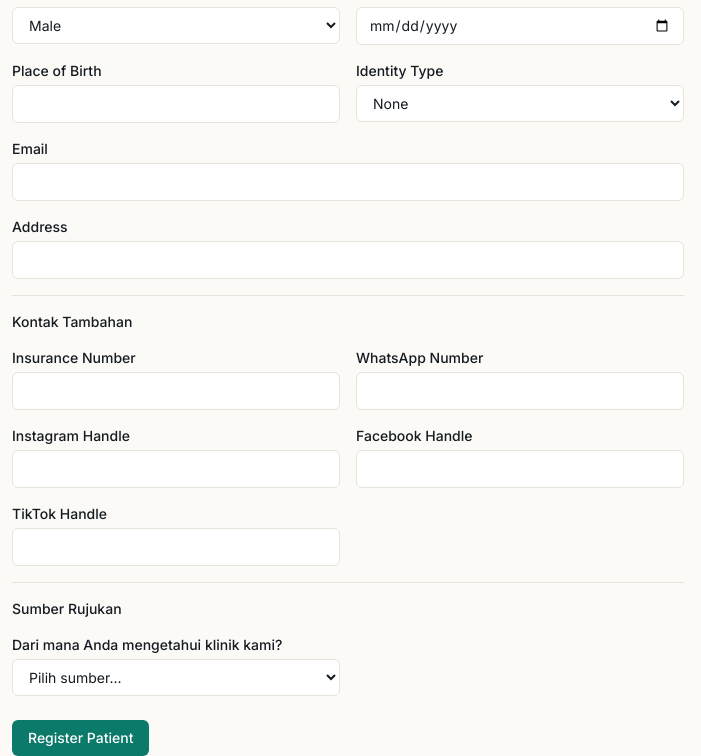
Test: RegisterPatientForm › shows the staff picker only when the selected referral source requires a referrer
(page scrolled)
Expected: the field labelled "Staf yang merujuk" is not shown
Select "Staf Klinik" in the dropdown labelled "Dari mana Anda mengetahui klinik kami?" at (176, 677), box [12,659,340,696]
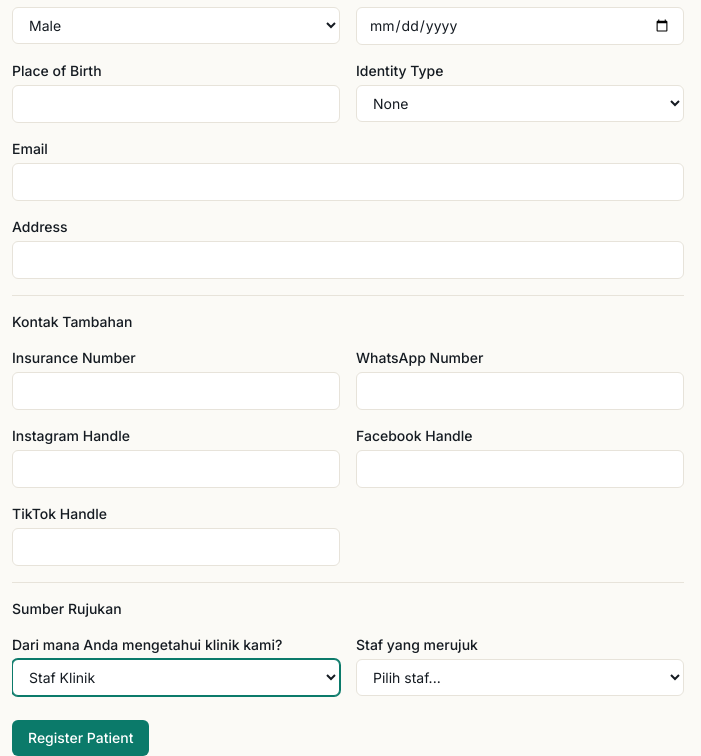
Expected: the dropdown labelled "Staf yang merujuk" is shown, [356,659,684,696]
Select "Google" in the dropdown labelled "Dari mana Anda mengetahui klinik kami?" at (176, 677), box [12,659,340,696]
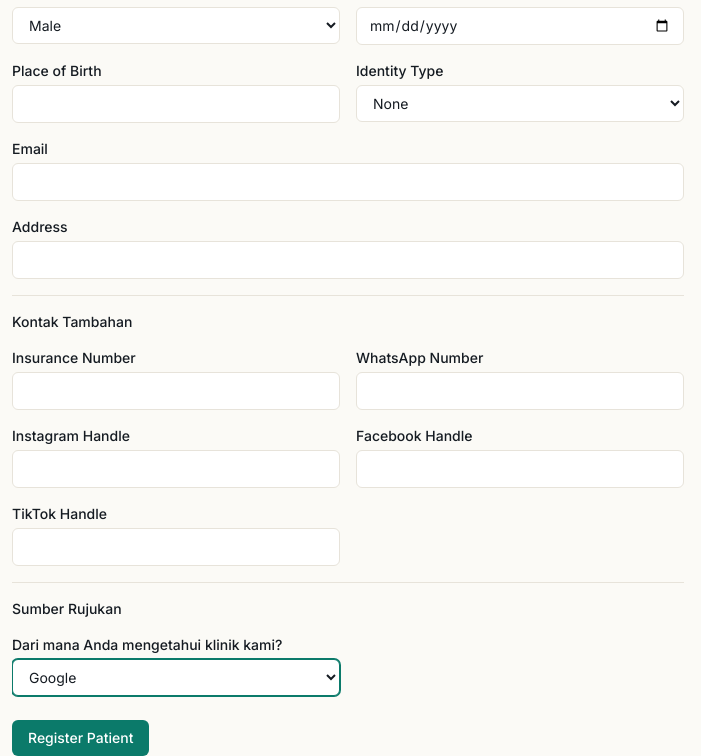
Expected: the label labelled "Staf yang merujuk" is gone
